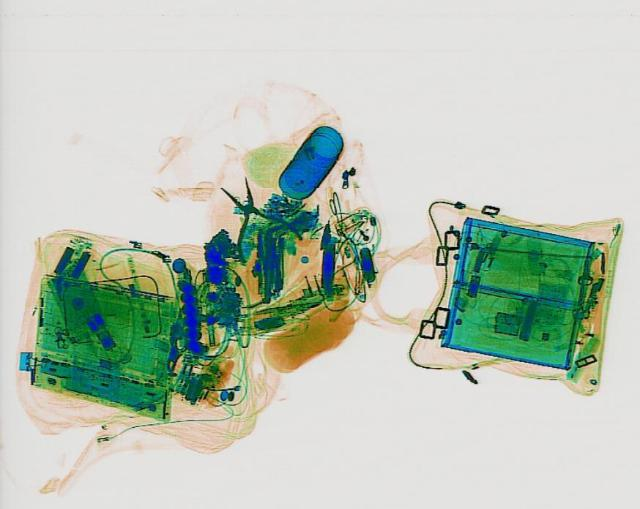Pliers: (197, 170, 305, 263)
